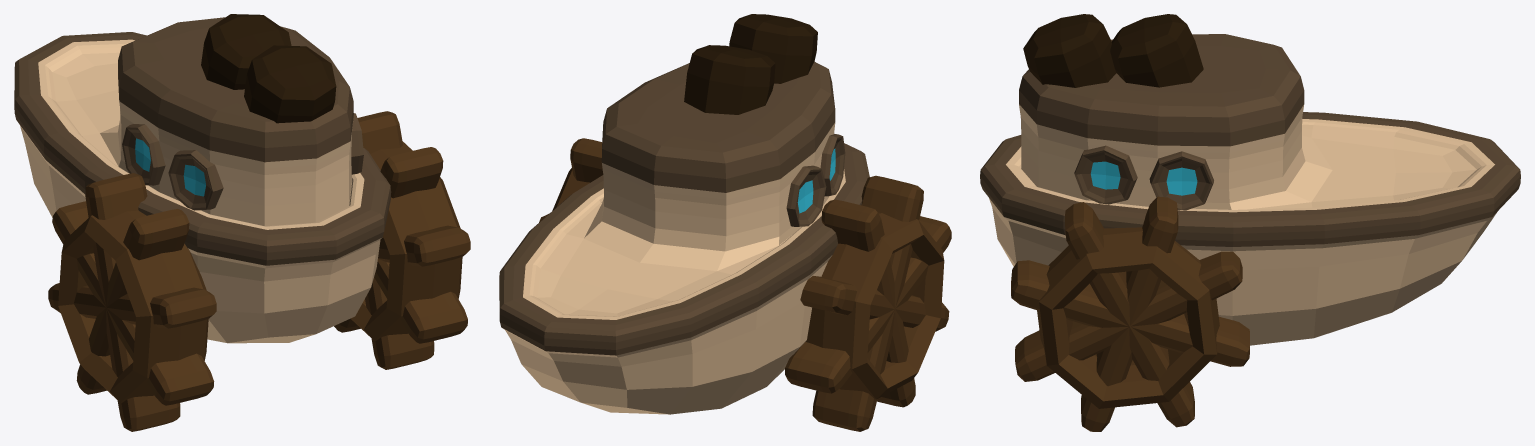
The model's file is altBoat.fbx.
3 renders of one model, left to right at view 1: azimuth 30°, elevation 25°; view 2: azimuth 150°, elevation 25°; view 3: azimuth 270°, elevation 25°, orthographic. The views are drawn at different scales.
Parts seen in each view (by area): view 1: Cube, Cube.004, Cube.005, Cube.002, Cube.001, Cube.003; view 2: Cube, Cube.004, Cube.003, Cube.002, Cube.001, Cube.005; view 3: Cube, Cube.005, Cube.001, Cube.002, Cube.003.
Part boxes in pixels (left/top/right/bottom): Cube: left=14, top=17, right=391, bottom=343; Cube.004: left=48, top=173, right=216, bottom=431; Cube.005: left=334, top=111, right=470, bottom=369; Cube.002: left=244, top=45, right=336, bottom=123; Cube.001: left=122, top=113, right=363, bottom=210; Cube.003: left=201, top=14, right=291, bottom=89; Cube: left=499, top=61, right=869, bottom=414; Cube.004: left=785, top=175, right=951, bottom=431; Cube.003: left=684, top=45, right=775, bottom=114; Cube.002: left=729, top=14, right=817, bottom=83; Cube.001: left=786, top=133, right=845, bottom=226; Cube.005: left=539, top=138, right=603, bottom=222; Cube: left=980, top=34, right=1520, bottom=345; Cube.005: left=1011, top=196, right=1249, bottom=431; Cube.001: left=1074, top=145, right=1213, bottom=210; Cube.002: left=1023, top=14, right=1116, bottom=87; Cube.003: left=1110, top=14, right=1203, bottom=87.
Bounding box in the file's own units: 458 × 466 × 671.
